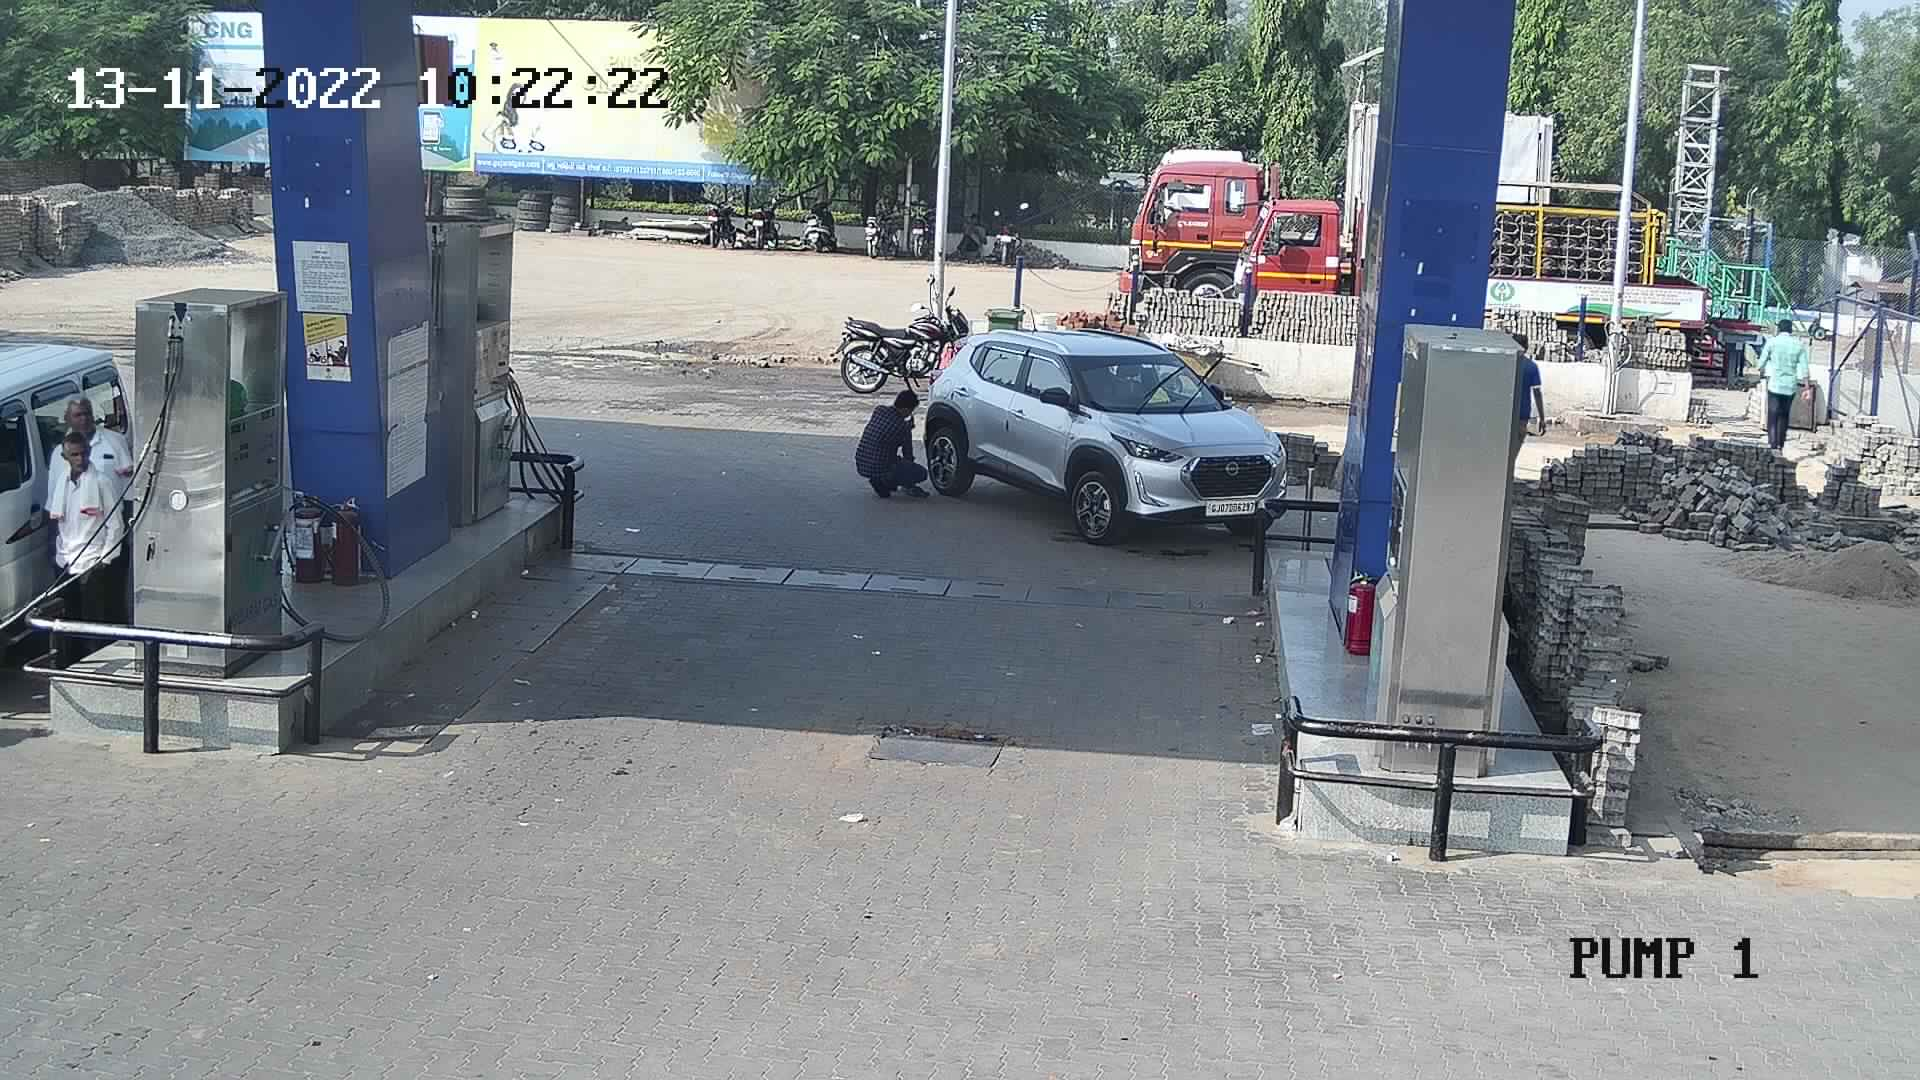Bike: (822, 274, 972, 400), (988, 194, 1038, 266), (906, 177, 940, 266), (744, 182, 786, 253), (795, 191, 843, 253), (699, 182, 738, 245), (858, 194, 889, 262)
Car: (901, 314, 1294, 539), (0, 319, 160, 702)
HMV: (1098, 95, 1379, 328), (1226, 185, 1378, 335)
